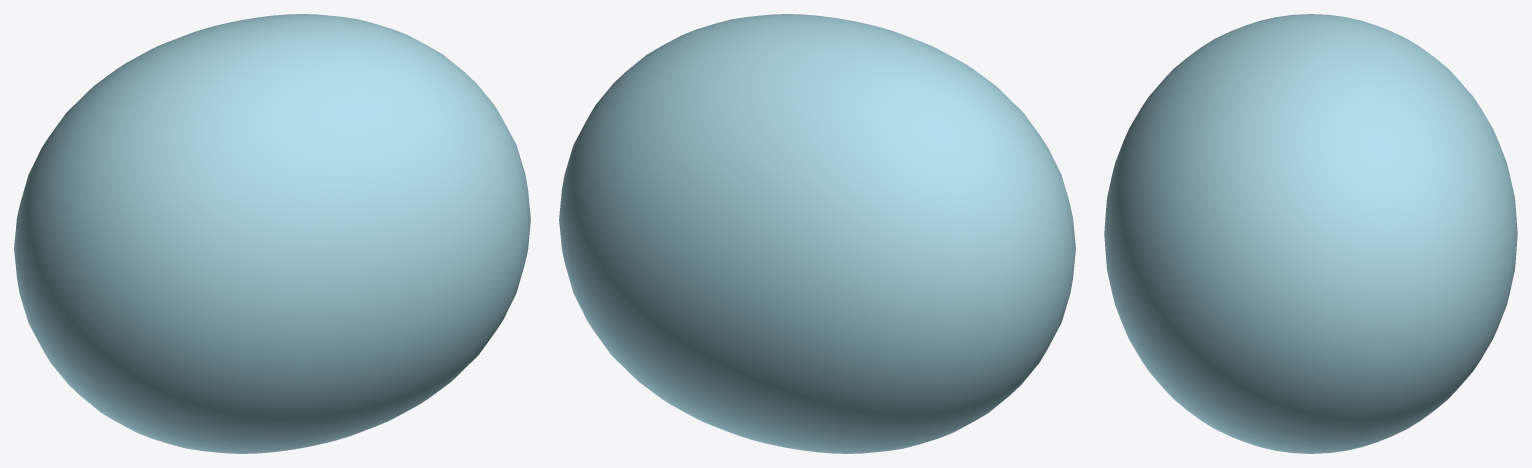
Rendered from dropletGlass.glb.
3 views of the same model, side by side, from view 1: azimuth 30°, elevation 25°; view 2: azimuth 150°, elevation 25°; view 3: azimuth 270°, elevation 25° (orthographic). The views are drawn at different scales.
Parts seen in each view (by area): view 1: frame000; view 2: frame000; view 3: frame000.
Boxes of the visible parts, x1,y1,x2,y2 form: frame000: (14,14,530,453); frame000: (559,14,1075,453); frame000: (1104,14,1517,453).
Size of what is drawn, in the model's own units: 0.138 by 0.111 by 0.111.
